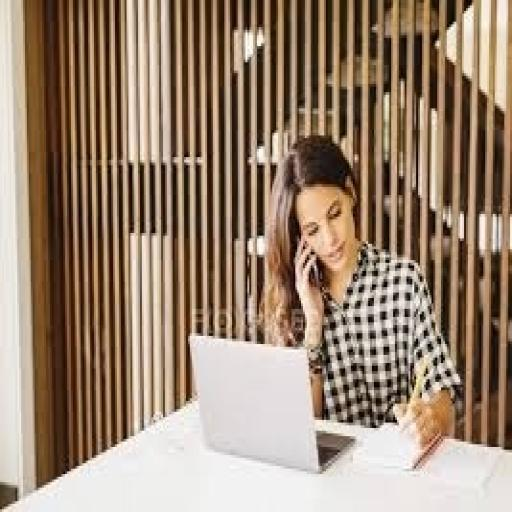calling: (257, 130, 464, 450)
